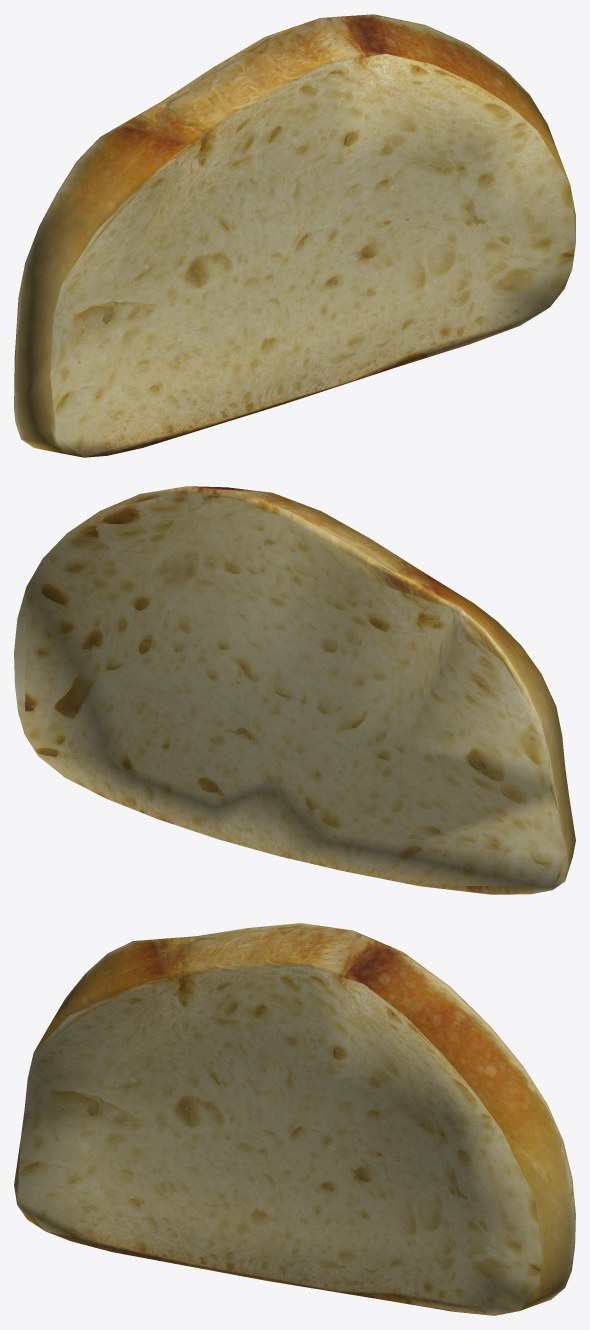
The model's file is bread-comp-transformed.glb.
3 renders of one model, top to bottom at view 1: azimuth 30°, elevation 25°; view 2: azimuth 150°, elevation 25°; view 3: azimuth 330°, elevation 25°, orthographic.
Visible parts, largest first — view 1: Sliced Bread.001; view 2: Sliced Bread.001; view 3: Sliced Bread.001.
Part boxes in pixels (x1=…): Sliced Bread.001: x1=14, y1=14, x2=575, y2=457; Sliced Bread.001: x1=14, y1=486, x2=575, y2=894; Sliced Bread.001: x1=14, y1=923, x2=575, y2=1315.
Bounding box in the file's own units: 14.29 × 8.88 × 2.
1 material, 1 textured.
